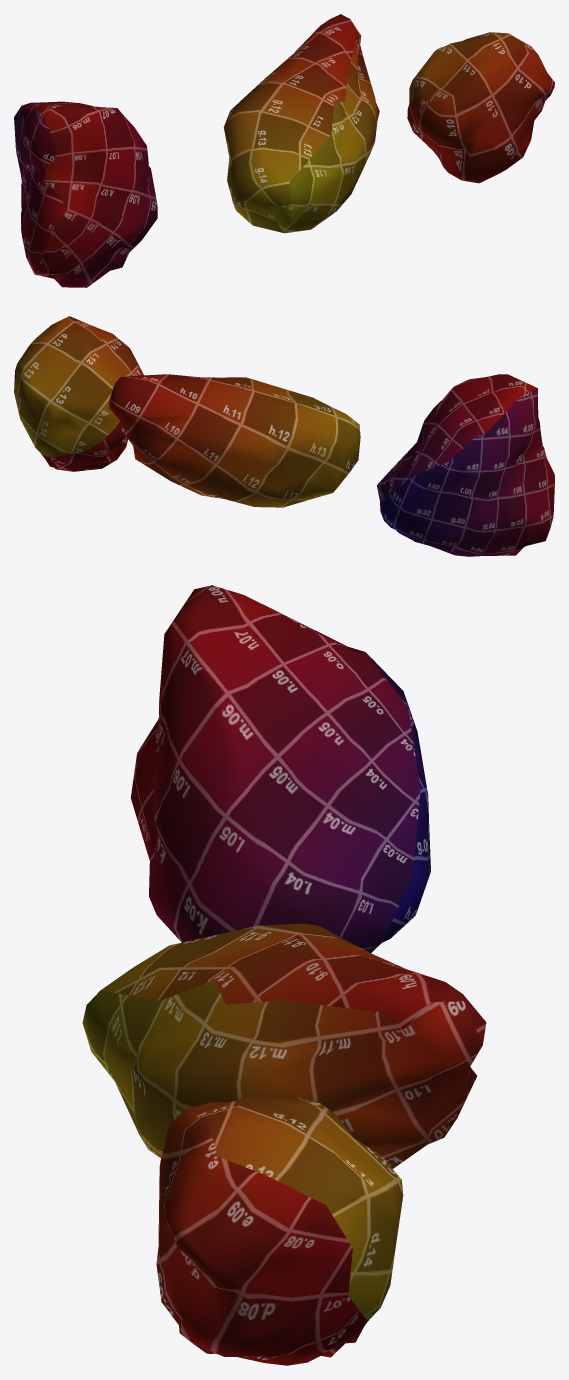
Rendered from Rocks_02.fbx.
The picture shows the model from 3 angles, top to bottom: view 1: azimuth 30°, elevation 25°; view 2: azimuth 150°, elevation 25°; view 3: azimuth 270°, elevation 25°; orthographic projection. The views are drawn at different scales.
Visible parts, largest first — view 1: Rock02, Rock01, Rock03; view 2: Rock02, Rock01, Rock03; view 3: Rock01, Rock02, Rock03.
Boxes of the visible parts, left/top/right/bottom form: Rock02: left=223, top=14, right=379, bottom=233; Rock01: left=14, top=101, right=157, bottom=287; Rock03: left=407, top=32, right=554, bottom=183; Rock02: left=108, top=374, right=360, bottom=507; Rock01: left=377, top=374, right=554, bottom=556; Rock03: left=14, top=316, right=143, bottom=471; Rock01: left=130, top=585, right=430, bottom=952; Rock02: left=82, top=923, right=486, bottom=1168; Rock03: left=156, top=1095, right=403, bottom=1365.
Bounding box in the file's own units: 2.33 × 0.7877 × 0.7902.
